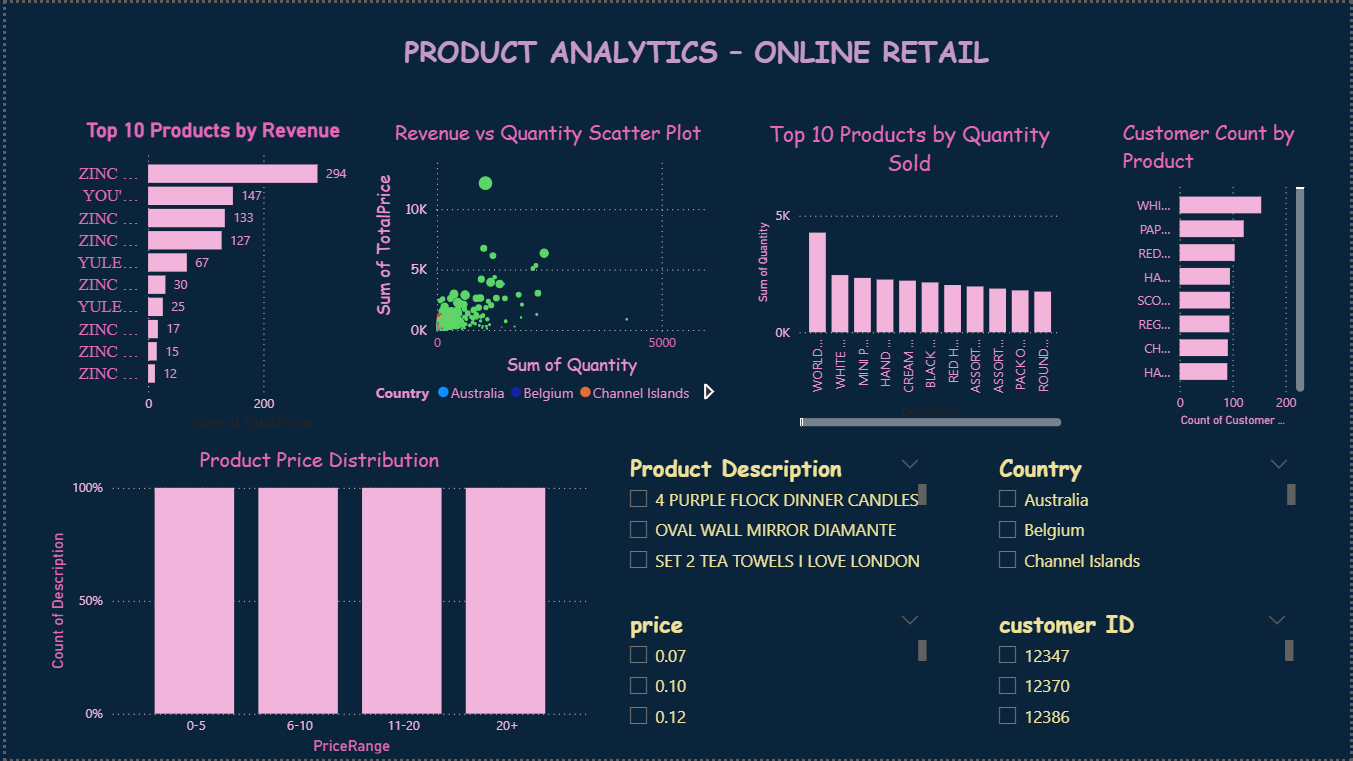

The dashboard page shown, as its layout file describes it:
{"tool":"powerbi","page":{"name":"Page 2","canvas":[1280,720],"ordinal":1},"visuals":[{"type":"textbox","title":"PRODUCT ANALYTICS – ONLINE RETAIL","box":[374,27.8,581.4,279.6],"z":0},{"type":"clusteredBarChart","title":"Top 10 Products by Revenue","fields":{"Category":["subset_25mb_or_less.Description"],"Y":["Sum(subset_25mb_or_less.TotalPrice)"]},"box":[47.2,109.6,300.5,302.4],"z":1000},{"type":"clusteredColumnChart","title":"Top 10 Products by Quantity Sold","fields":{"Category":["subset_25mb_or_less.Description"],"Y":["Sum(subset_25mb_or_less.Quantity)"]},"box":[710.6,109.6,300.5,298.6],"z":2000},{"type":"hundredPercentStackedColumnChart","title":"Product Price Distribution","fields":{"Y":["CountNonNull(subset_25mb_or_less.Description)"],"Category":["subset_25mb_or_less.PriceRange"]},"box":[35.9,421.4,525.4,298.6],"z":2001},{"type":"scatterChart","title":"Revenue vs Quantity Scatter Plot","fields":{"X":["Sum(subset_25mb_or_less.Quantity)"],"Y":["Sum(subset_25mb_or_less.TotalPrice)"],"Series":["subset_25mb_or_less.Country"],"Category":["subset_25mb_or_less.Description"],"Size":["Sum(subset_25mb_or_less.Price)"]},"box":[347.7,109.6,338.3,279.7],"z":2002},{"type":"clusteredBarChart","title":"Customer Count by Product","fields":{"Category":["subset_25mb_or_less.Description"],"Y":["CountNonNull(subset_25mb_or_less.Customer ID)"]},"box":[1058.3,109.6,183.3,298.6],"z":2003},{"type":"slicer","fields":{"Values":["subset_25mb_or_less.Country"]},"box":[933.6,421.4,300.5,120.9],"z":2004},{"type":"slicer","fields":{"Values":["subset_25mb_or_less.Description"]},"box":[582.1,421.4,300.5,130.4],"z":2005},{"type":"slicer","fields":{"Values":["subset_25mb_or_less.Customer ID"]},"box":[933.6,570.7,298.6,130.4],"z":2006},{"type":"slicer","fields":{"Values":["subset_25mb_or_less.Price"]},"box":[582.1,570.7,300.5,130.4],"z":2007}]}

Visuals, with their boxes in screenshot pixels (x1, y1, x2, y2), scaled from the page's 1280x720 canvas onto the 1353x761 screenshot:
"PRODUCT ANALYTICS – ONLINE RETAIL" textbox: select_region(395, 29, 1010, 325)
"Top 10 Products by Revenue" clusteredBarChart: select_region(50, 116, 368, 435)
"Top 10 Products by Quantity Sold" clusteredColumnChart: select_region(751, 116, 1069, 431)
"Product Price Distribution" hundredPercentStackedColumnChart: select_region(38, 445, 593, 760)
"Revenue vs Quantity Scatter Plot" scatterChart: select_region(368, 116, 725, 411)
"Customer Count by Product" clusteredBarChart: select_region(1119, 116, 1312, 431)
slicer - subset_25mb_or_less.Country: select_region(987, 445, 1304, 573)
slicer - subset_25mb_or_less.Description: select_region(615, 445, 933, 583)
slicer - subset_25mb_or_less.Customer ID: select_region(987, 603, 1302, 741)
slicer - subset_25mb_or_less.Price: select_region(615, 603, 933, 741)
